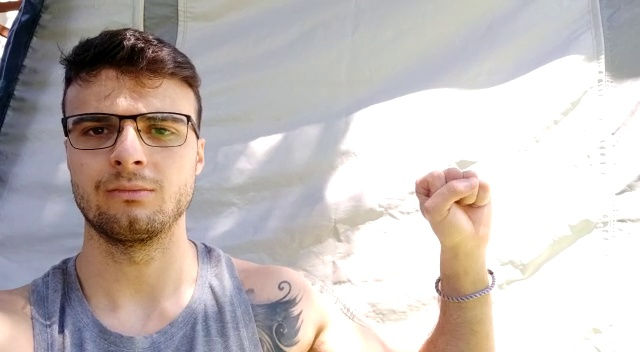Fist: (414, 168, 492, 251)
